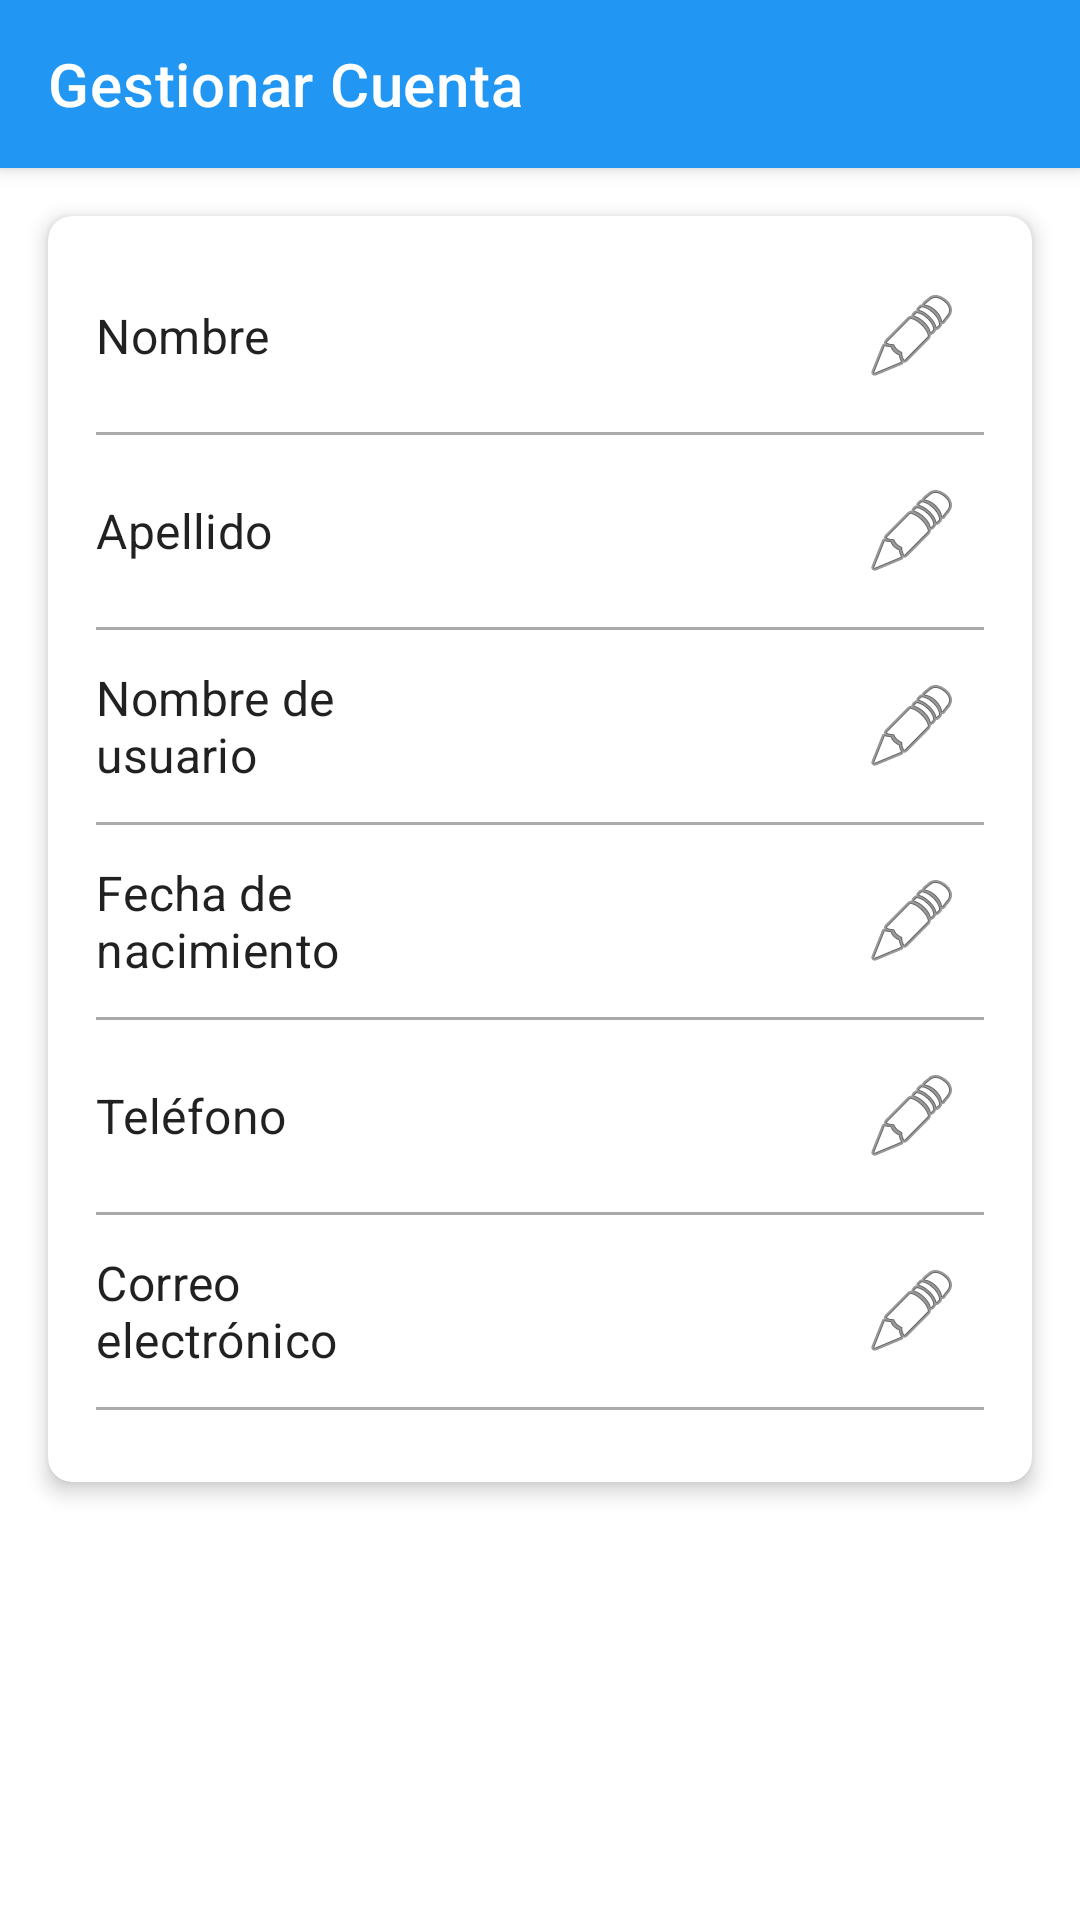

Named icons in this screenshot (1080 x 1920) and their bounding boxes, (x1, y1, x2, y2):
Editar apellido: (871, 490, 952, 571)
Editar correo electrónico: (871, 1270, 952, 1351)
Editar fecha de nacimiento: (871, 880, 952, 961)
Editar nombre: (871, 295, 952, 376)
Editar nombre de usuario: (871, 685, 952, 766)
Editar teléfono: (871, 1075, 952, 1156)
